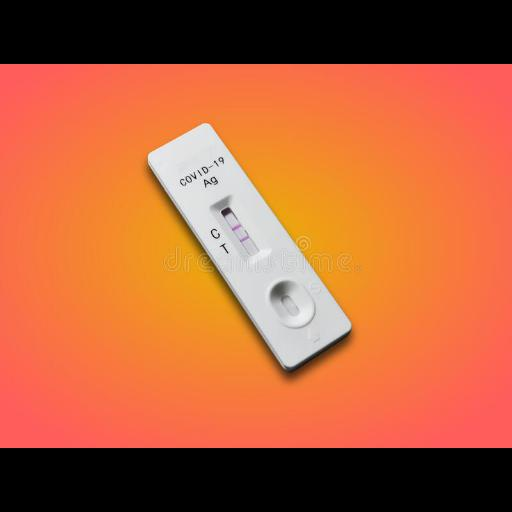Pos: (148, 123, 354, 368)
